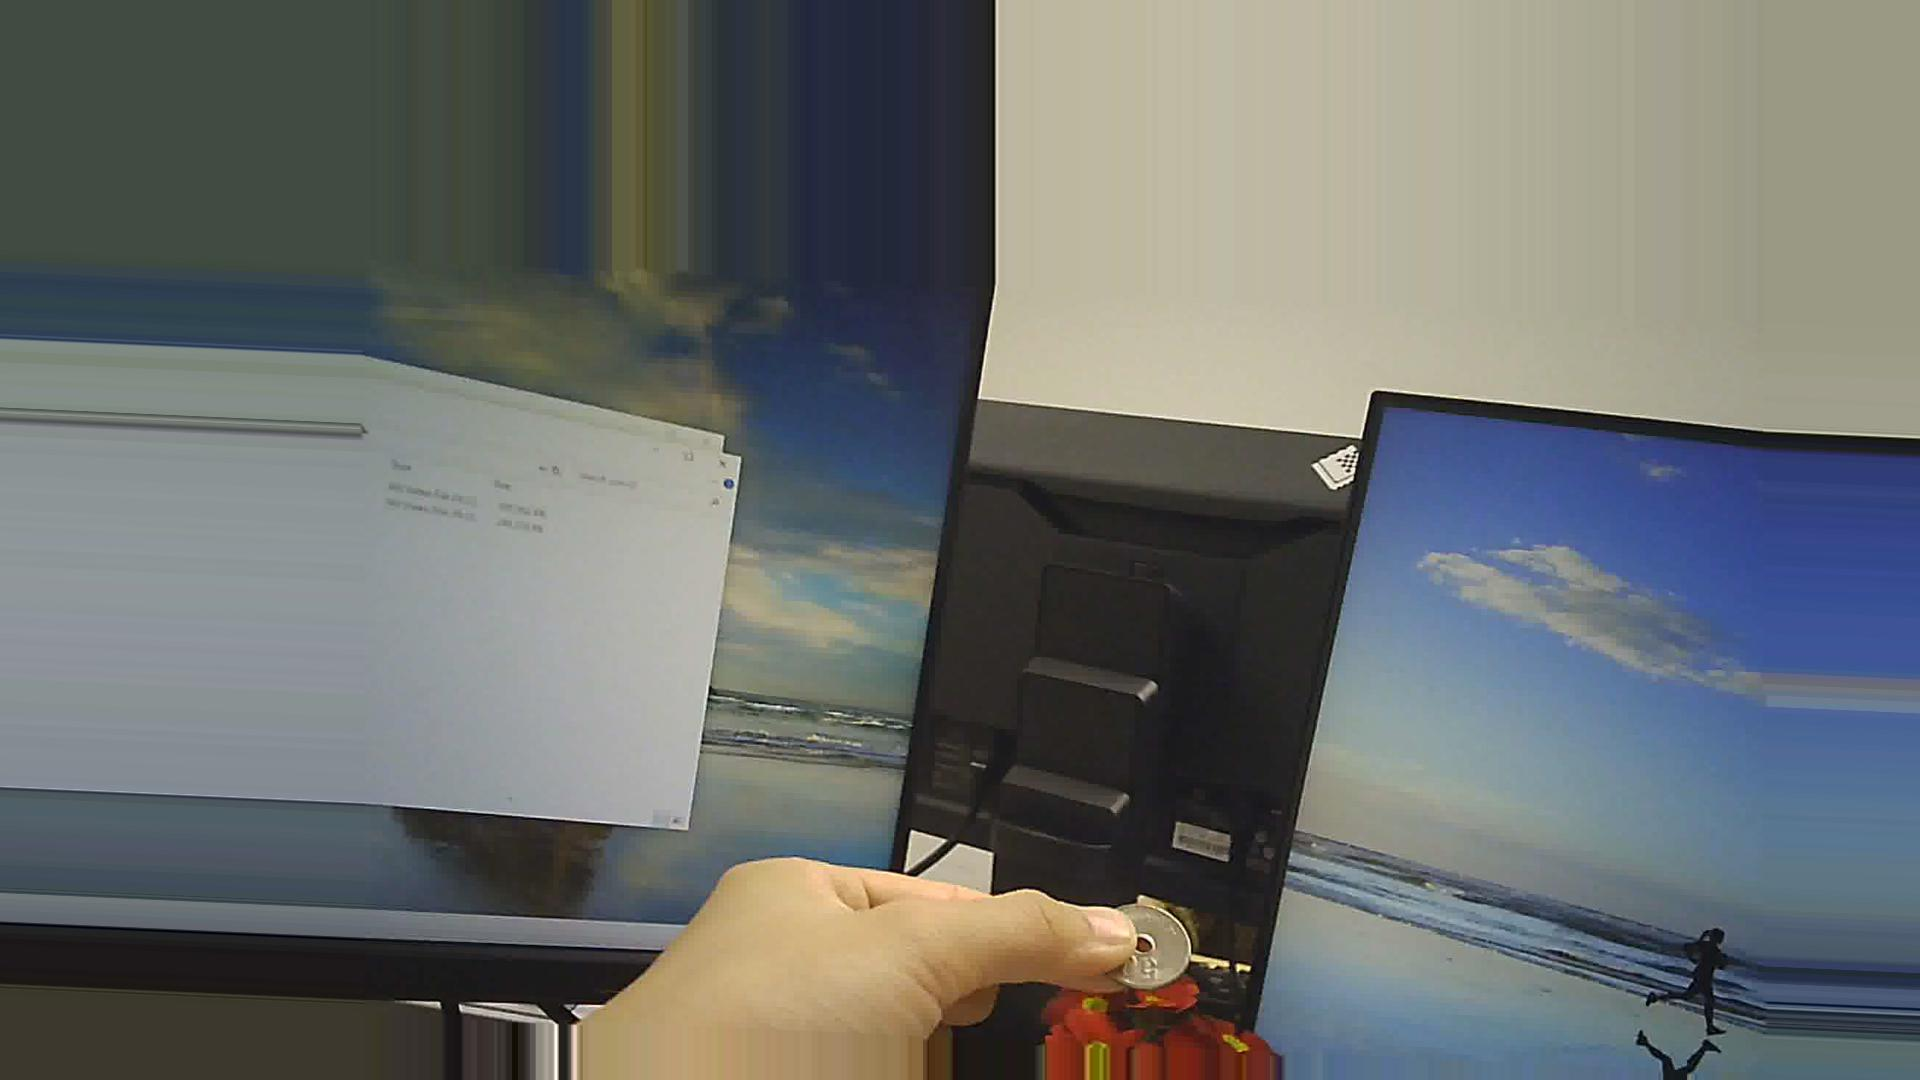50 Yen: (1095, 894, 1201, 986)
